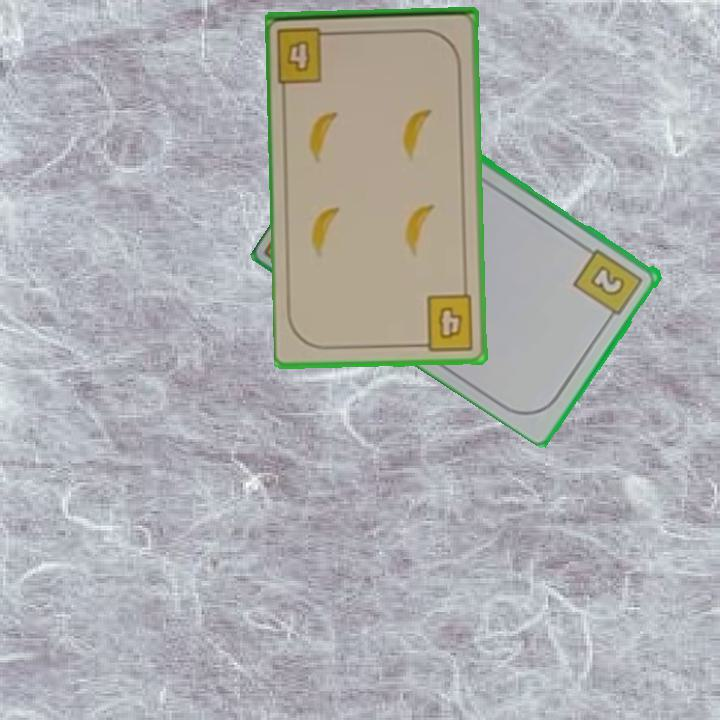2b: (570, 245, 647, 325)
4b: (274, 23, 339, 85), (414, 291, 476, 353)
